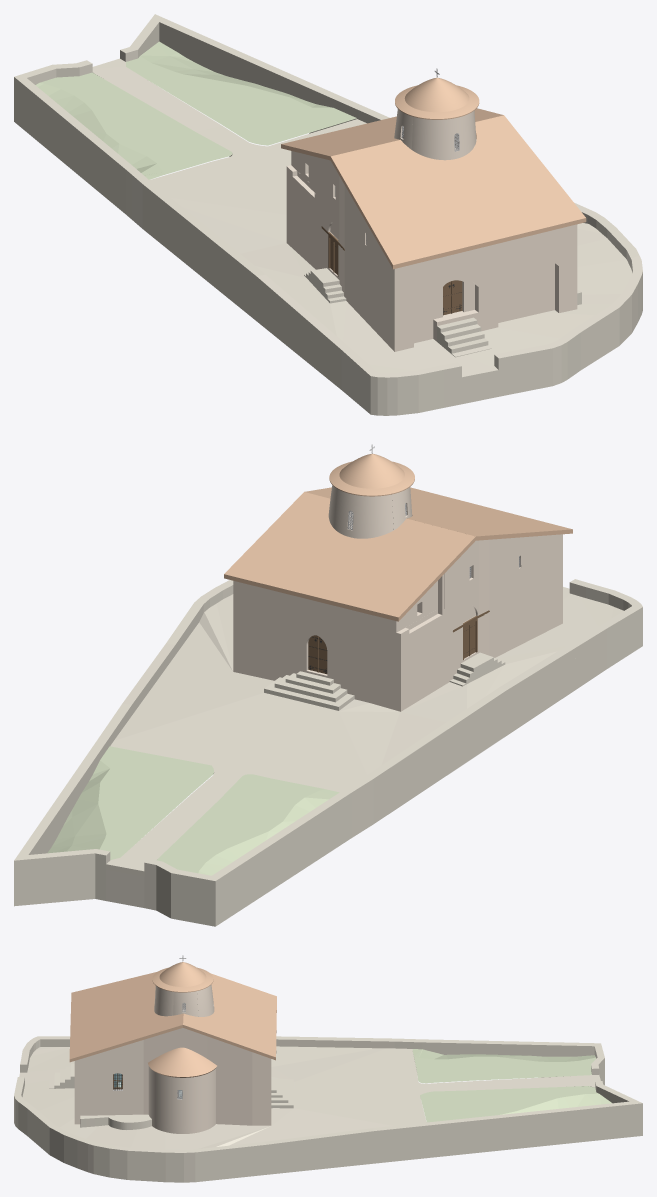
File: church2.glb
3 renders of one model, top to bottom at view 1: azimuth 30°, elevation 25°; view 2: azimuth 150°, elevation 25°; view 3: azimuth 270°, elevation 25°, orthographic. The views are drawn at different scales.
Parts seen in each view (by area): view 1: Holy_Cross_Church_v4.045, Holy_Cross_Church_v4.115, Holy_Cross_Church_v4.030, Holy_Cross_Church_v4.010, Holy_Cross_Church_v4.107, Holy_Cross_Church_v4.097, Holy_Cross_Church_v4.101, Holy_Cross_Church_v4.009, Holy_Cross_Church_v4.098, Holy_Cross_Church_v4.002, Holy_Cross_Church_v4.004, Holy_Cross_Church_v4.114 (+15 smaller); view 2: Holy_Cross_Church_v4.045, Holy_Cross_Church_v4.030, Holy_Cross_Church_v4.114, Holy_Cross_Church_v4.001, Holy_Cross_Church_v4.009, Holy_Cross_Church_v4.107, Holy_Cross_Church_v4.097, Holy_Cross_Church_v4.002, Holy_Cross_Church_v4.098, Holy_Cross_Church_v4.115, Holy_Cross_Church_v4.102, Holy_Cross_Church_v4.101 (+14 smaller); view 3: Holy_Cross_Church_v4.045, Holy_Cross_Church_v4.030, Holy_Cross_Church_v4.101, Holy_Cross_Church_v4.115, Holy_Cross_Church_v4.054, Holy_Cross_Church_v4.114, Holy_Cross_Church_v4.011, Holy_Cross_Church_v4.012, Holy_Cross_Church_v4.055, Holy_Cross_Church_v4.107, Holy_Cross_Church_v4.008, Holy_Cross_Church_v4.017 (+16 smaller).
Part boxes in pixels (<box>): Holy_Cross_Church_v4.045: <box>132,119,642,393</box>; Holy_Cross_Church_v4.115: <box>330,115,586,269</box>; Holy_Cross_Church_v4.030: <box>35,41,356,179</box>; Holy_Cross_Church_v4.010: <box>394,224,577,351</box>; Holy_Cross_Church_v4.107: <box>18,78,134,214</box>; Holy_Cross_Church_v4.097: <box>142,199,341,389</box>; Holy_Cross_Church_v4.101: <box>152,14,364,133</box>; Holy_Cross_Church_v4.009: <box>344,185,394,351</box>; Holy_Cross_Church_v4.098: <box>142,182,349,359</box>; Holy_Cross_Church_v4.002: <box>286,166,339,279</box>; Holy_Cross_Church_v4.004: <box>443,258,554,322</box>; Holy_Cross_Church_v4.114: <box>281,108,503,160</box>; Holy_Cross_Church_v4.045: <box>110,587,640,802</box>; Holy_Cross_Church_v4.030: <box>47,746,339,875</box>; Holy_Cross_Church_v4.114: <box>224,492,475,621</box>; Holy_Cross_Church_v4.001: <box>233,581,408,711</box>; Holy_Cross_Church_v4.009: <box>489,534,562,657</box>; Holy_Cross_Church_v4.107: <box>212,790,351,922</box>; Holy_Cross_Church_v4.097: <box>373,644,606,824</box>; Holy_Cross_Church_v4.002: <box>401,589,478,711</box>; Holy_Cross_Church_v4.098: <box>365,626,606,788</box>; Holy_Cross_Church_v4.115: <box>304,487,572,540</box>; Holy_Cross_Church_v4.102: <box>25,850,95,905</box>; Holy_Cross_Church_v4.101: <box>14,735,109,906</box>; Holy_Cross_Church_v4.045: <box>14,1046,467,1164</box>; Holy_Cross_Church_v4.030: <box>412,1049,611,1122</box>; Holy_Cross_Church_v4.101: <box>427,1100,642,1157</box>; Holy_Cross_Church_v4.115: <box>69,971,183,1062</box>; Holy_Cross_Church_v4.054: <box>195,1136,428,1182</box>; Holy_Cross_Church_v4.114: <box>183,973,276,1060</box>; Holy_Cross_Church_v4.011: <box>74,1040,143,1124</box>; Holy_Cross_Church_v4.012: <box>148,1066,215,1133</box>; Holy_Cross_Church_v4.055: <box>194,1122,428,1160</box>; Holy_Cross_Church_v4.107: <box>422,1039,594,1077</box>; Holy_Cross_Church_v4.008: <box>216,1042,252,1125</box>; Holy_Cross_Church_v4.017: <box>143,1028,207,1114</box>.
Bounding box in the file's own units: 19.41 × 12.84 × 43.58.
